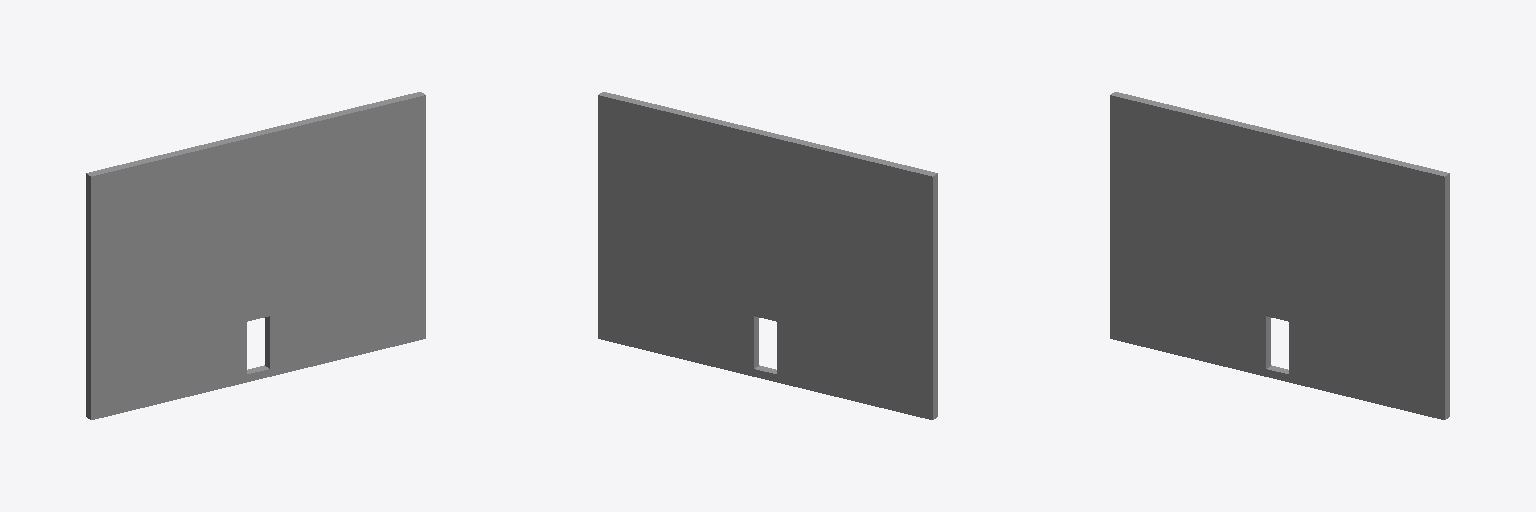
The model's file is Wall_Front.obj.
The picture shows the model from 3 angles: view 1: azimuth 30°, elevation 25°; view 2: azimuth 150°, elevation 25°; view 3: azimuth 330°, elevation 25°; orthographic projection.
Parts seen in each view (by area): view 1: Wall_Front_Cube.006; view 2: Wall_Front_Cube.006; view 3: Wall_Front_Cube.006.
Boxes of the visible parts, <box> form: Wall_Front_Cube.006: <box>86,92,425,419</box>; Wall_Front_Cube.006: <box>598,92,937,419</box>; Wall_Front_Cube.006: <box>1110,92,1449,419</box>.
Size of the model in its own units: 9.23 by 6.43 by 0.235.